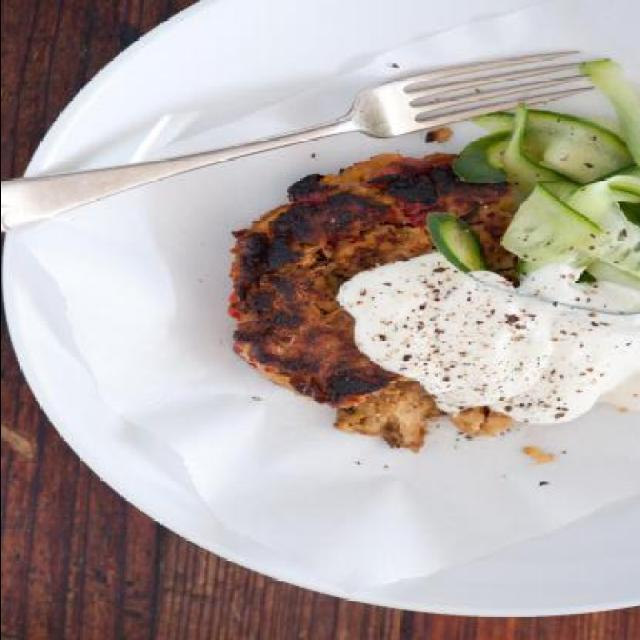Zucchini: (425, 205, 640, 322), (460, 110, 638, 194), (505, 177, 640, 280), (451, 128, 589, 198)
